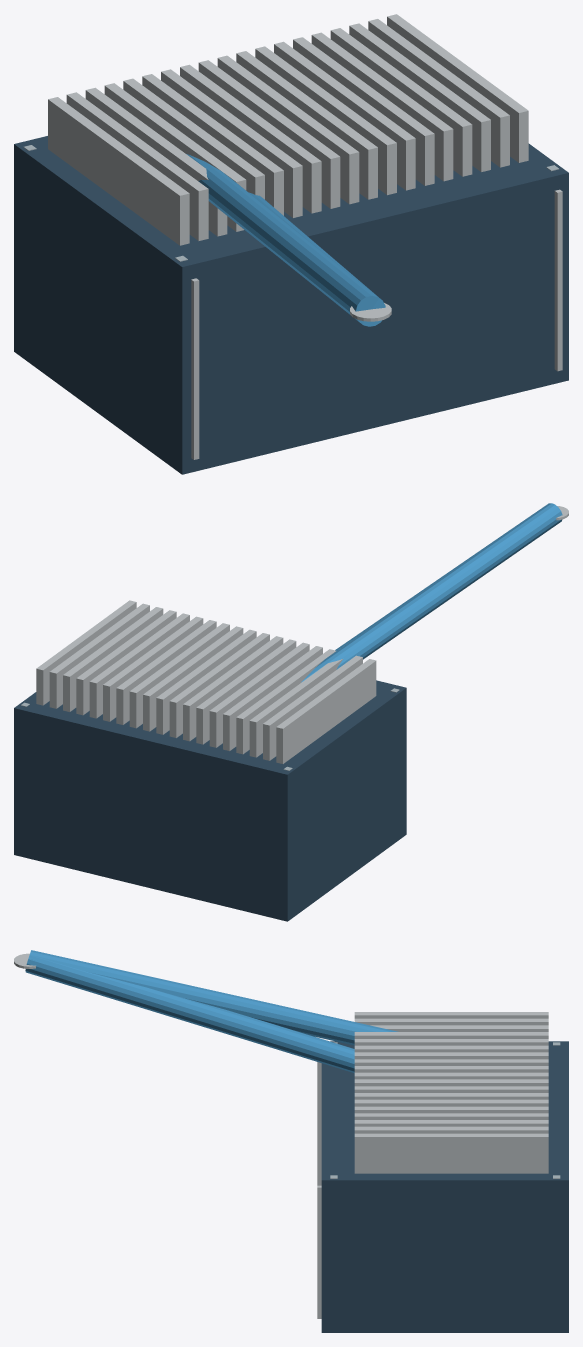
The model's file is 38_L75_WaferCoolingSystem.glb.
3 views of the same model, one above another, from view 1: azimuth 30°, elevation 25°; view 2: azimuth 150°, elevation 25°; view 3: azimuth 270°, elevation 25° (orthographic). The views are drawn at different scales.
Parts seen in each view (by area): view 1: WaferCoolingSystem_Node_0000, WaferCoolingSystem_Node_0007, WaferCoolingSystem_Node_0027, WaferCoolingSystem_Node_0016, WaferCoolingSystem_Node_0021, WaferCoolingSystem_Node_0008, WaferCoolingSystem_Node_0022, WaferCoolingSystem_Node_0015, WaferCoolingSystem_Node_0014, WaferCoolingSystem_Node_0020, WaferCoolingSystem_Node_0019, WaferCoolingSystem_Node_0023 (+12 smaller); view 2: WaferCoolingSystem_Node_0000, WaferCoolingSystem_Node_0027, WaferCoolingSystem_Node_0007, WaferCoolingSystem_Node_0016, WaferCoolingSystem_Node_0013, WaferCoolingSystem_Node_0018, WaferCoolingSystem_Node_0021, WaferCoolingSystem_Node_0022, WaferCoolingSystem_Node_0025, WaferCoolingSystem_Node_0012, WaferCoolingSystem_Node_0014, WaferCoolingSystem_Node_0017 (+9 smaller); view 3: WaferCoolingSystem_Node_0000, WaferCoolingSystem_Node_0025, WaferCoolingSystem_Node_0032, WaferCoolingSystem_Node_0027, WaferCoolingSystem_Node_0013, WaferCoolingSystem_Node_0017, WaferCoolingSystem_Node_0020, WaferCoolingSystem_Node_0024, WaferCoolingSystem_Node_0012, WaferCoolingSystem_Node_0016, WaferCoolingSystem_Node_0021, WaferCoolingSystem_Node_0008 (+12 smaller).
Boxes of the visible parts, left/top/right/bottom form: WaferCoolingSystem_Node_0000: left=14, top=136, right=568, bottom=474; WaferCoolingSystem_Node_0007: left=48, top=97, right=189, bottom=245; WaferCoolingSystem_Node_0027: left=186, top=154, right=380, bottom=324; WaferCoolingSystem_Node_0016: left=217, top=55, right=359, bottom=204; WaferCoolingSystem_Node_0021: left=311, top=32, right=453, bottom=181; WaferCoolingSystem_Node_0008: left=66, top=92, right=208, bottom=240; WaferCoolingSystem_Node_0022: left=330, top=28, right=472, bottom=176; WaferCoolingSystem_Node_0015: left=198, top=60, right=340, bottom=208; WaferCoolingSystem_Node_0014: left=180, top=64, right=321, bottom=213; WaferCoolingSystem_Node_0020: left=293, top=37, right=434, bottom=185; WaferCoolingSystem_Node_0019: left=274, top=41, right=415, bottom=190; WaferCoolingSystem_Node_0023: left=349, top=23, right=490, bottom=171; WaferCoolingSystem_Node_0000: left=14, top=680, right=406, bottom=921; WaferCoolingSystem_Node_0027: left=301, top=503, right=562, bottom=682; WaferCoolingSystem_Node_0007: left=276, top=659, right=376, bottom=763; WaferCoolingSystem_Node_0016: left=156, top=629, right=256, bottom=734; WaferCoolingSystem_Node_0013: left=196, top=639, right=296, bottom=744; WaferCoolingSystem_Node_0018: left=129, top=623, right=229, bottom=728; WaferCoolingSystem_Node_0021: left=89, top=613, right=189, bottom=718; WaferCoolingSystem_Node_0022: left=76, top=610, right=176, bottom=715; WaferCoolingSystem_Node_0025: left=36, top=600, right=136, bottom=705; WaferCoolingSystem_Node_0012: left=209, top=642, right=309, bottom=747; WaferCoolingSystem_Node_0014: left=183, top=636, right=283, bottom=741; WaferCoolingSystem_Node_0017: left=143, top=626, right=243, bottom=731; WaferCoolingSystem_Node_0000: left=321, top=1041, right=568, bottom=1332; WaferCoolingSystem_Node_0025: left=354, top=1133, right=548, bottom=1173; WaferCoolingSystem_Node_0032: left=25, top=950, right=354, bottom=1073; WaferCoolingSystem_Node_0027: left=26, top=950, right=398, bottom=1045; WaferCoolingSystem_Node_0013: left=354, top=1052, right=548, bottom=1059; WaferCoolingSystem_Node_0017: left=354, top=1079, right=548, bottom=1086; WaferCoolingSystem_Node_0020: left=354, top=1099, right=548, bottom=1106; WaferCoolingSystem_Node_0024: left=354, top=1126, right=548, bottom=1133; WaferCoolingSystem_Node_0012: left=354, top=1045, right=548, bottom=1052; WaferCoolingSystem_Node_0016: left=354, top=1072, right=548, bottom=1079; WaferCoolingSystem_Node_0021: left=354, top=1106, right=548, bottom=1113; WaferCoolingSystem_Node_0008: left=354, top=1018, right=548, bottom=1025.
Size of the model in its own units: 1.65 by 1.24 by 2.6.
